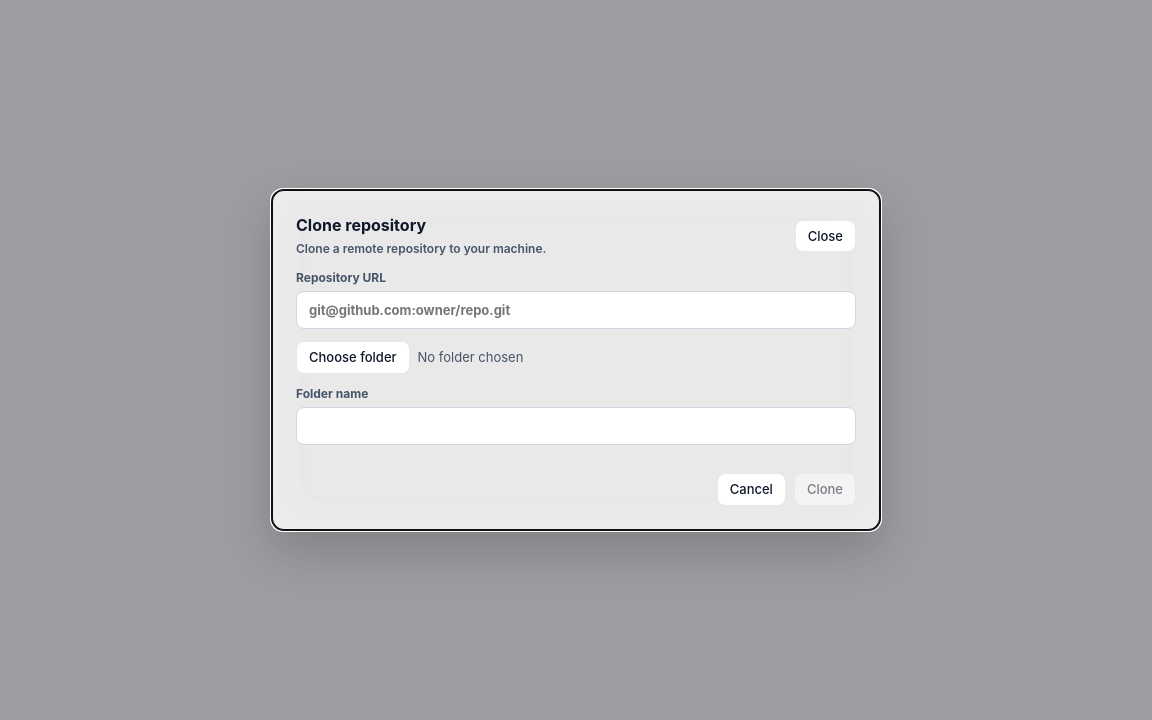
Test: CloneDialog › shows an error when clone fails
The image size is (1152, 720).
Type "git@github.com:foo/bar.git" into the field labelled "Repository URL" at (576, 310), box [296, 291, 856, 329]
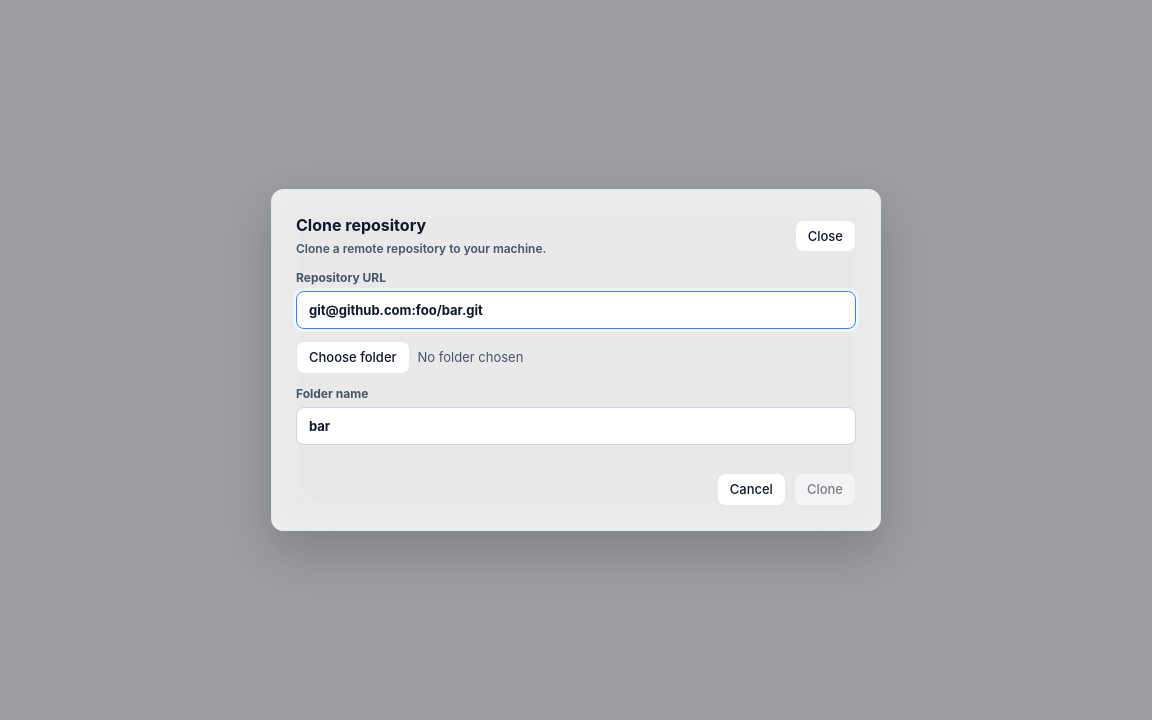
Click the button "Choose folder" at (353, 358), box [296, 341, 410, 374]
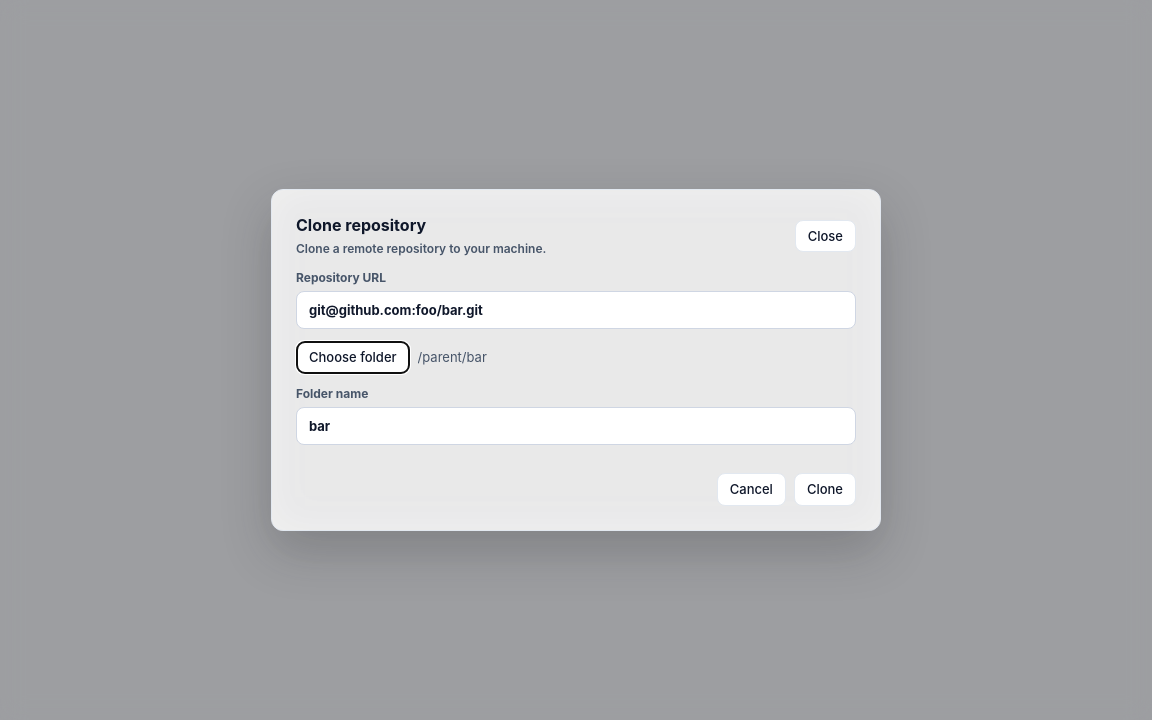
Click the button "Clone" at (825, 490), box [794, 473, 856, 506]
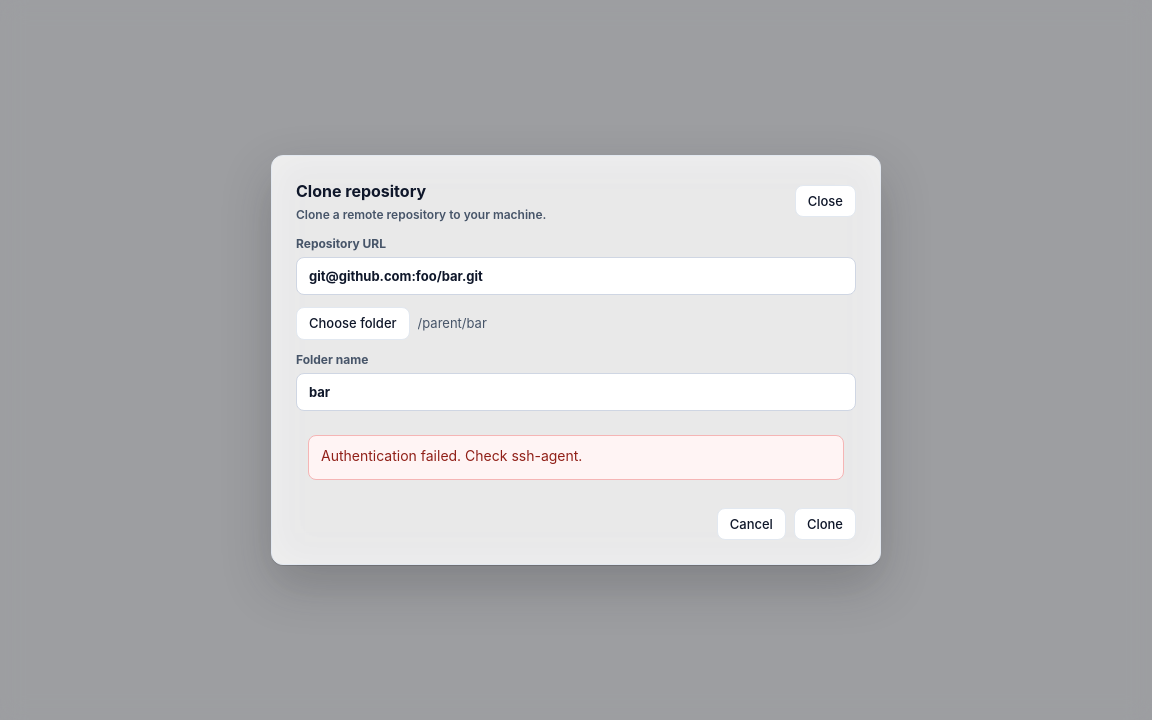
Check: the text "Authentication failed. Check ssh-agent." is shown, box [308, 435, 844, 480]
